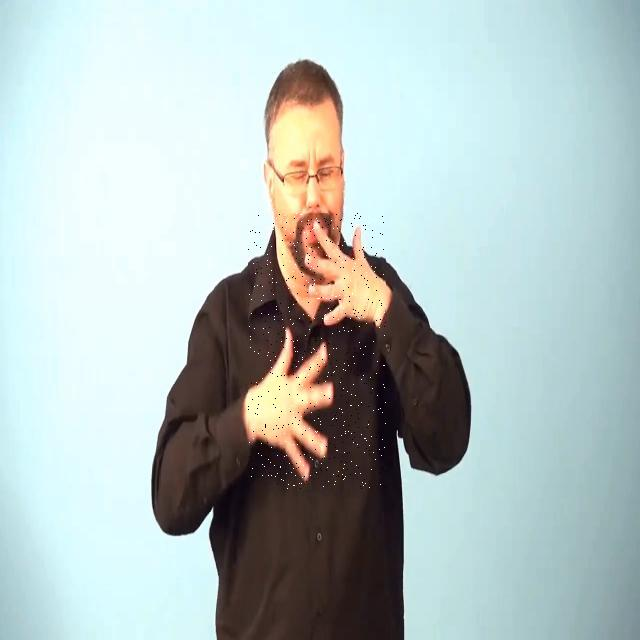juicy: (248, 213, 386, 490)
